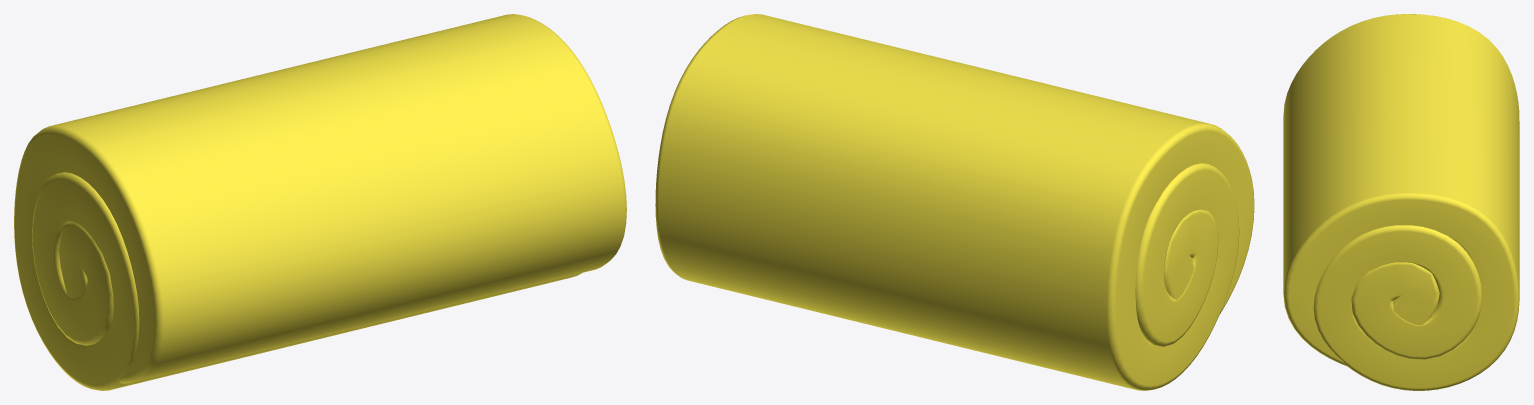
Rendered from Farm_15_Hay_1.glb.
3 views of the same model, side by side, from view 1: azimuth 30°, elevation 25°; view 2: azimuth 150°, elevation 25°; view 3: azimuth 270°, elevation 25° (orthographic). The views are drawn at different scales.
Parts seen in each view (by area): view 1: Farm_15_Hay_1; view 2: Farm_15_Hay_1; view 3: Farm_15_Hay_1.
Boxes of the visible parts, x1,y1,x2,y2 form: Farm_15_Hay_1: (14,14,626,390); Farm_15_Hay_1: (655,14,1254,390); Farm_15_Hay_1: (1283,14,1519,390).
Size of the model in its own units: 1.08 by 0.5299 by 0.574.
1 material, 1 textured.
